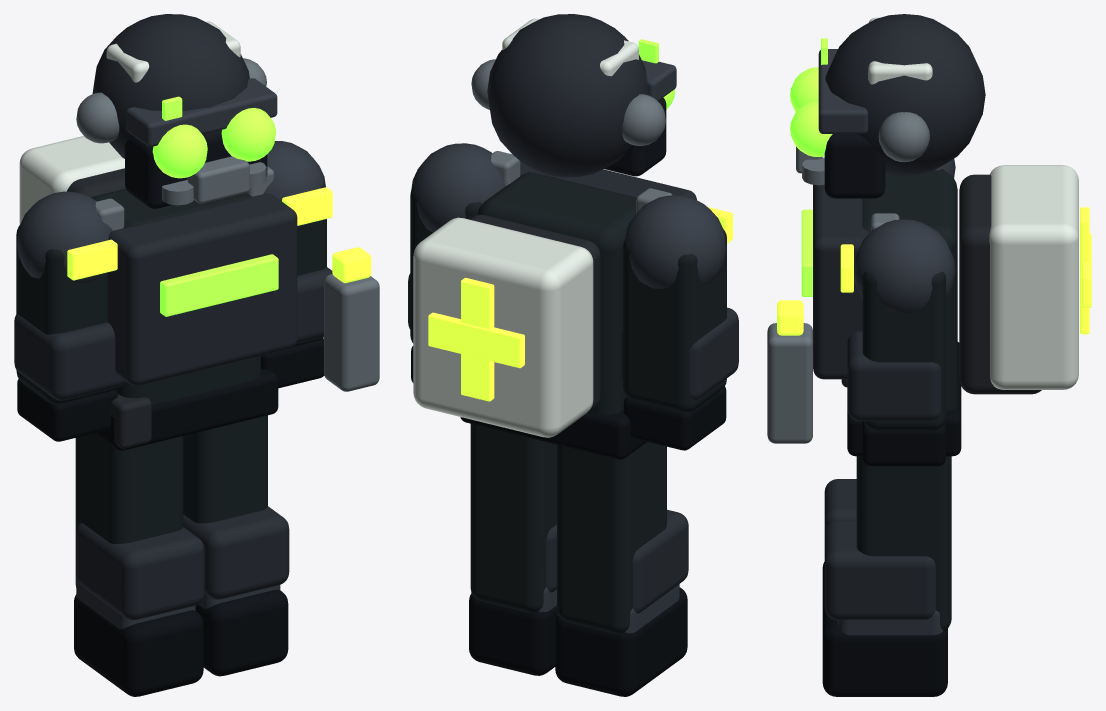
File: medic_l01.glb
The picture shows the model from 3 angles, left to right: view 1: azimuth 30°, elevation 25°; view 2: azimuth 150°, elevation 25°; view 3: azimuth 270°, elevation 25°; orthographic projection. The views are drawn at different scales.
Visible parts, largest first — view 1: segmented_vest, trouser (×2), shaped_knee_guard (×2), boot (×2), rounded_helmet, forearm_plate (×2), shoulder_joint (×2), sleeve (×2), aid_injector, glove (×2), belt, body (+16 smaller); view 2: trouser (×2), medical_pack, rounded_helmet, boot (×2), sleeve (×2), shoulder_joint (×2), body, shaped_knee_guard (×2), glove, aid_cross_horizontal, belt, forearm_plate (+9 smaller); view 3: medical_pack, rounded_helmet, trouser, shaped_knee_guard (×2), boot, segmented_vest, field_pack, shoulder_joint, sleeve, body, forearm_plate, aid_injector (+15 smaller).
Part boxes in pixels (bbox=[...]): segmented_vest: bbox=[107, 193, 297, 385]; trouser (×2): bbox=[75, 415, 267, 587]; shaped_knee_guard (×2): bbox=[76, 506, 289, 620]; boot (×2): bbox=[74, 589, 288, 696]; rounded_helmet: bbox=[92, 14, 249, 158]; forearm_plate (×2): bbox=[14, 267, 332, 400]; shoulder_joint (×2): bbox=[17, 141, 325, 283]; sleeve (×2): bbox=[16, 183, 326, 403]; aid_injector: bbox=[324, 274, 379, 391]; glove (×2): bbox=[17, 338, 324, 441]; belt: bbox=[95, 369, 278, 450]; body: bbox=[92, 188, 260, 404]; trouser (×2): bbox=[470, 423, 666, 633]; medical_pack: bbox=[413, 217, 593, 437]; rounded_helmet: bbox=[487, 14, 649, 177]; boot (×2): bbox=[469, 587, 687, 696]; sleeve (×2): bbox=[410, 186, 726, 411]; shoulder_joint (×2): bbox=[411, 143, 726, 288]; body: bbox=[478, 172, 636, 415]; shaped_knee_guard (×2): bbox=[546, 509, 688, 613]; glove: bbox=[623, 386, 726, 450]; aid_cross_horizontal: bbox=[428, 312, 524, 368]; belt: bbox=[460, 410, 646, 459]; forearm_plate: bbox=[622, 307, 738, 399]; medical_pack: bbox=[989, 165, 1078, 389]; rounded_helmet: bbox=[825, 14, 985, 175]; trouser: bbox=[856, 456, 951, 630]; shaped_knee_guard (×2): bbox=[824, 479, 935, 620]; boot: bbox=[822, 603, 947, 696]; segmented_vest: bbox=[813, 184, 868, 379]; field_pack: bbox=[959, 174, 1041, 394]; shoulder_joint: bbox=[854, 219, 955, 314]; sleeve: bbox=[862, 271, 945, 430]; body: bbox=[862, 170, 957, 411]; forearm_plate: bbox=[847, 331, 940, 421]; aid_injector: bbox=[767, 323, 812, 443].
Bounding box in the file's own units: 0.91 × 1.86 × 0.8525.
